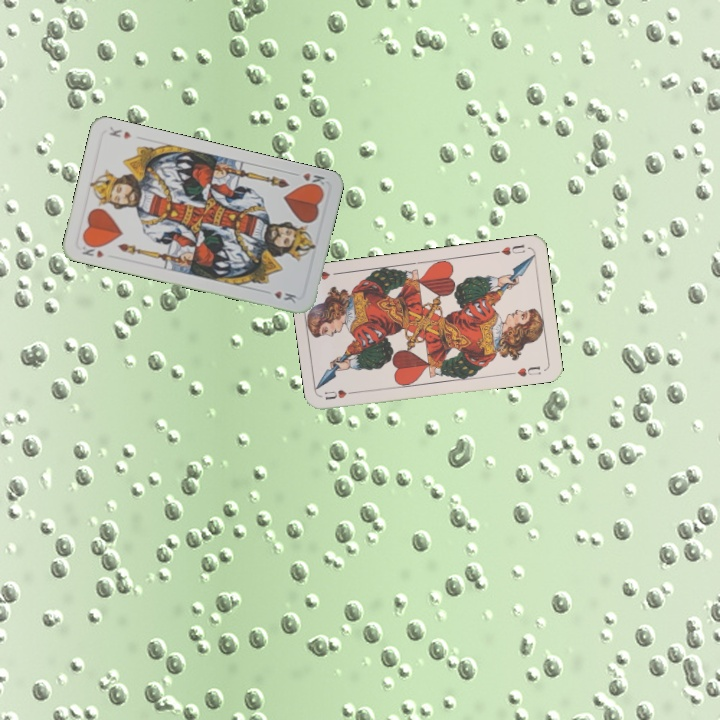HK: (288, 168, 328, 192), (78, 239, 106, 261)
HU: (490, 240, 528, 258), (321, 385, 360, 402)
